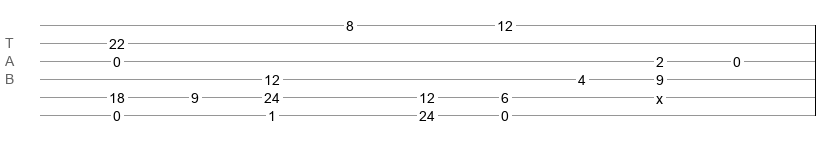0: (113, 54, 121, 64), (113, 108, 121, 118), (501, 108, 509, 118), (733, 54, 741, 64)
1: (268, 108, 276, 118)
12: (264, 72, 280, 82), (419, 90, 435, 100), (497, 18, 513, 28)
18: (109, 90, 125, 100)
2: (656, 54, 664, 64)
22: (109, 36, 125, 46)
24: (264, 90, 280, 100), (419, 108, 435, 118)
4: (578, 72, 586, 82)
6: (501, 90, 509, 100)
8: (346, 18, 354, 28)
9: (191, 90, 199, 100), (656, 72, 664, 82)
x: (656, 91, 663, 99)
